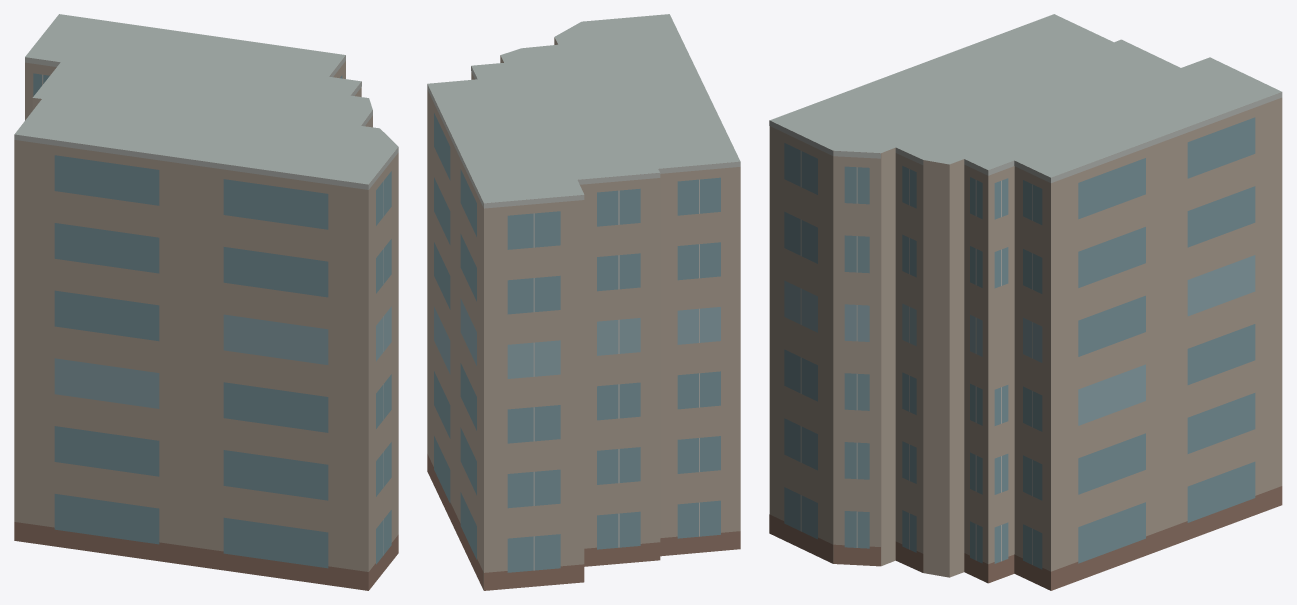
Rendered from survey-upis-32652669.glb.
3 renders of one model, left to right at view 1: azimuth 30°, elevation 25°; view 2: azimuth 150°, elevation 25°; view 3: azimuth 270°, elevation 25°, orthographic. The views are drawn at different scales.
Parts seen in each view (by area): view 1: survey-upis-32652669.tmp; view 2: survey-upis-32652669.tmp; view 3: survey-upis-32652669.tmp.
Part boxes in pixels (x1,y1,x2,y2): survey-upis-32652669.tmp: [14, 14, 398, 590]; survey-upis-32652669.tmp: [427, 14, 740, 590]; survey-upis-32652669.tmp: [769, 14, 1282, 590].
Size of the model in its own units: 15.57 by 18.3 by 20.59.
